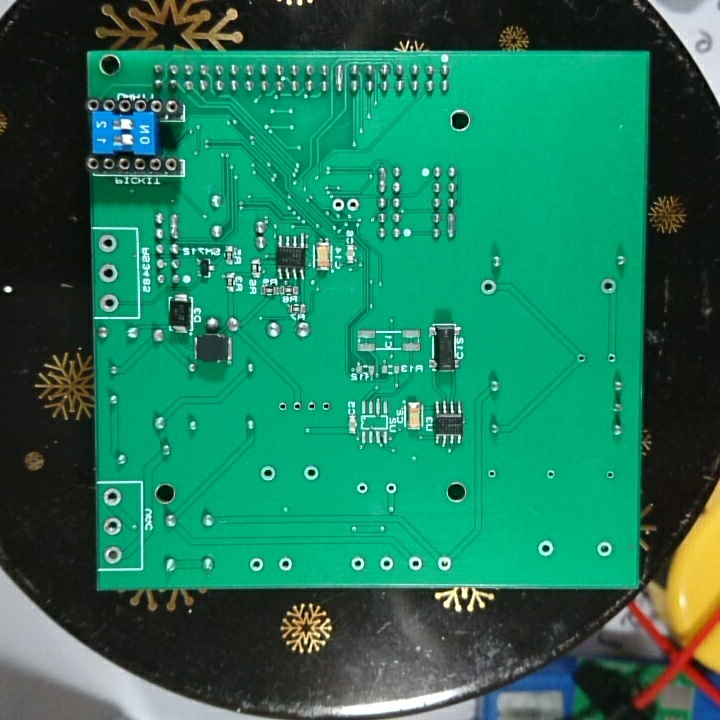F: (97, 262, 121, 286), (96, 232, 120, 256), (96, 292, 121, 315), (301, 463, 324, 486), (101, 486, 124, 509), (599, 275, 619, 299), (102, 545, 124, 566), (103, 516, 124, 538), (479, 276, 499, 299), (258, 463, 278, 486), (377, 553, 396, 575), (536, 538, 555, 559), (595, 540, 614, 560), (349, 555, 367, 575), (247, 555, 265, 575), (345, 194, 362, 215), (276, 555, 295, 573), (407, 553, 424, 573), (436, 555, 453, 573), (330, 195, 345, 214), (484, 466, 498, 484), (355, 480, 370, 496), (574, 351, 588, 368), (304, 398, 318, 415), (319, 400, 333, 417), (544, 466, 559, 481), (383, 480, 397, 496), (289, 399, 303, 415), (276, 398, 289, 415), (604, 352, 619, 366), (603, 468, 616, 484)
P: (375, 164, 389, 194), (444, 211, 458, 240), (167, 212, 181, 239), (333, 60, 344, 93)
